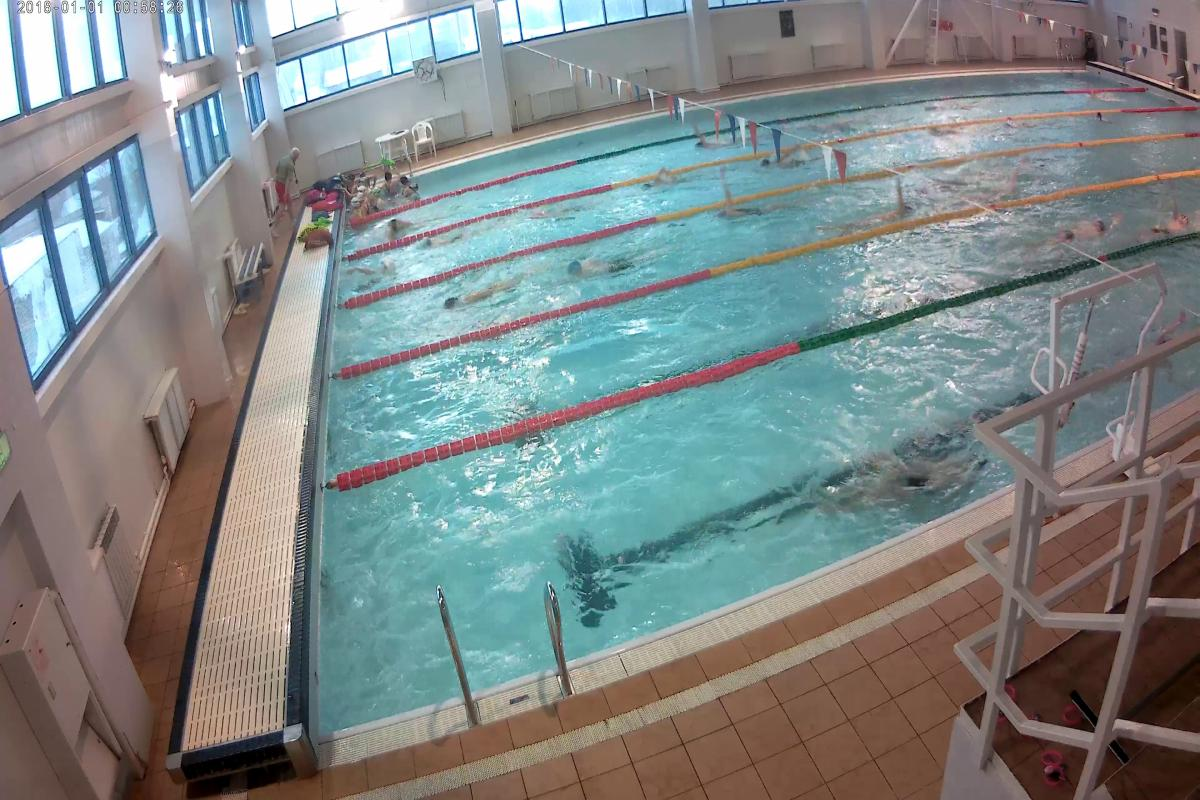swimmer: (839, 460, 978, 500), (1042, 209, 1136, 251), (857, 191, 943, 221), (563, 243, 650, 269), (718, 190, 804, 215), (451, 282, 545, 302), (1149, 209, 1193, 243)
